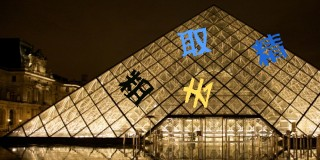去: (182, 77, 213, 109)
取: (176, 27, 213, 57)
粗: (117, 69, 153, 106)
精: (253, 33, 287, 67)
